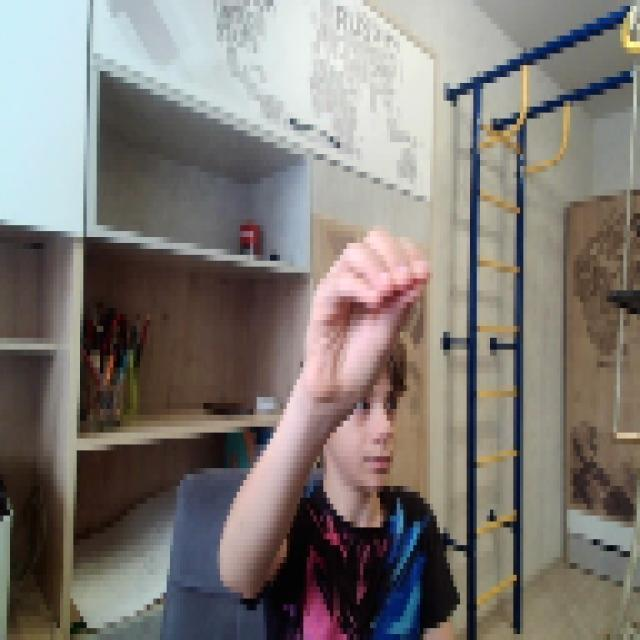left_click: (306, 219, 426, 403)
